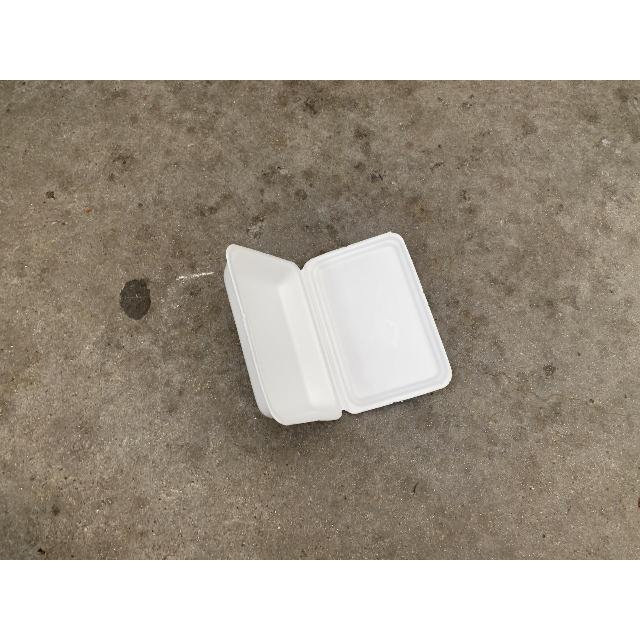Recipiente plastico: (225, 232, 451, 425)
